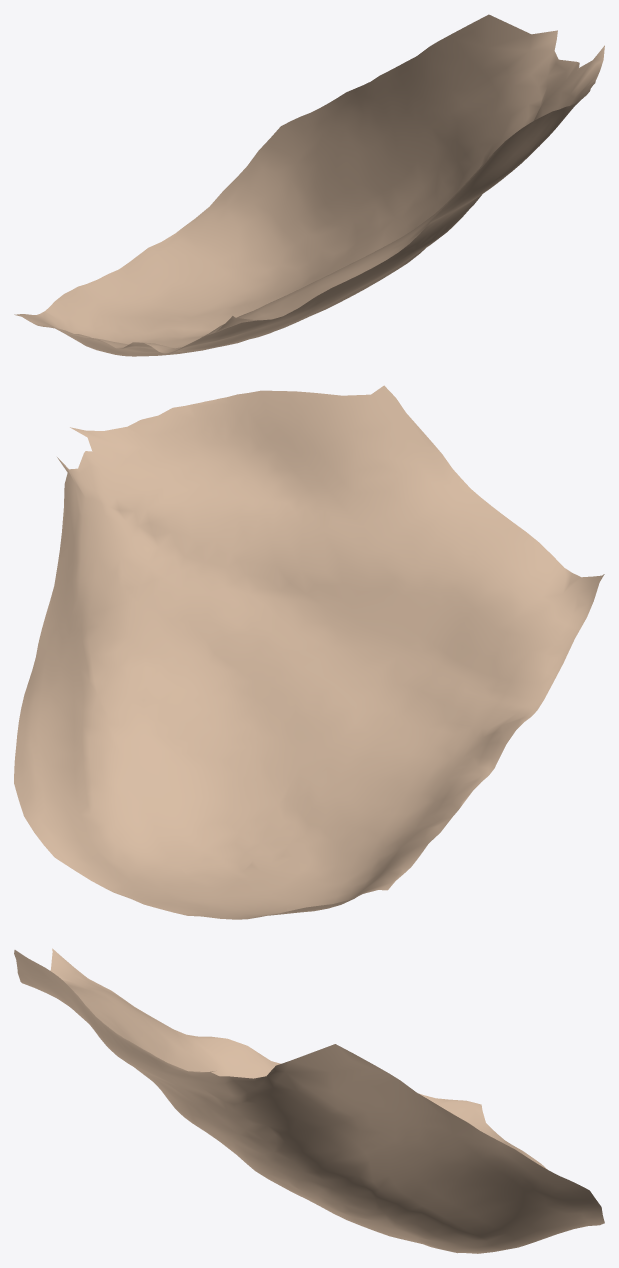
The picture shows the model from 3 angles, top to bottom: view 1: azimuth 30°, elevation 25°; view 2: azimuth 150°, elevation 25°; view 3: azimuth 270°, elevation 25°; orthographic projection.
Visible parts, largest first — view 1: 左侧胸肌筋膜; view 2: 左侧胸肌筋膜; view 3: 左侧胸肌筋膜.
Boxes of the visible parts, x1=… form: 左侧胸肌筋膜: x1=14, y1=14, x2=604, y2=356; 左侧胸肌筋膜: x1=14, y1=385, x2=604, y2=919; 左侧胸肌筋膜: x1=14, y1=948, x2=604, y2=1253.
Size of the model in its own units: 0.2538 by 0.1701 by 0.2901.
